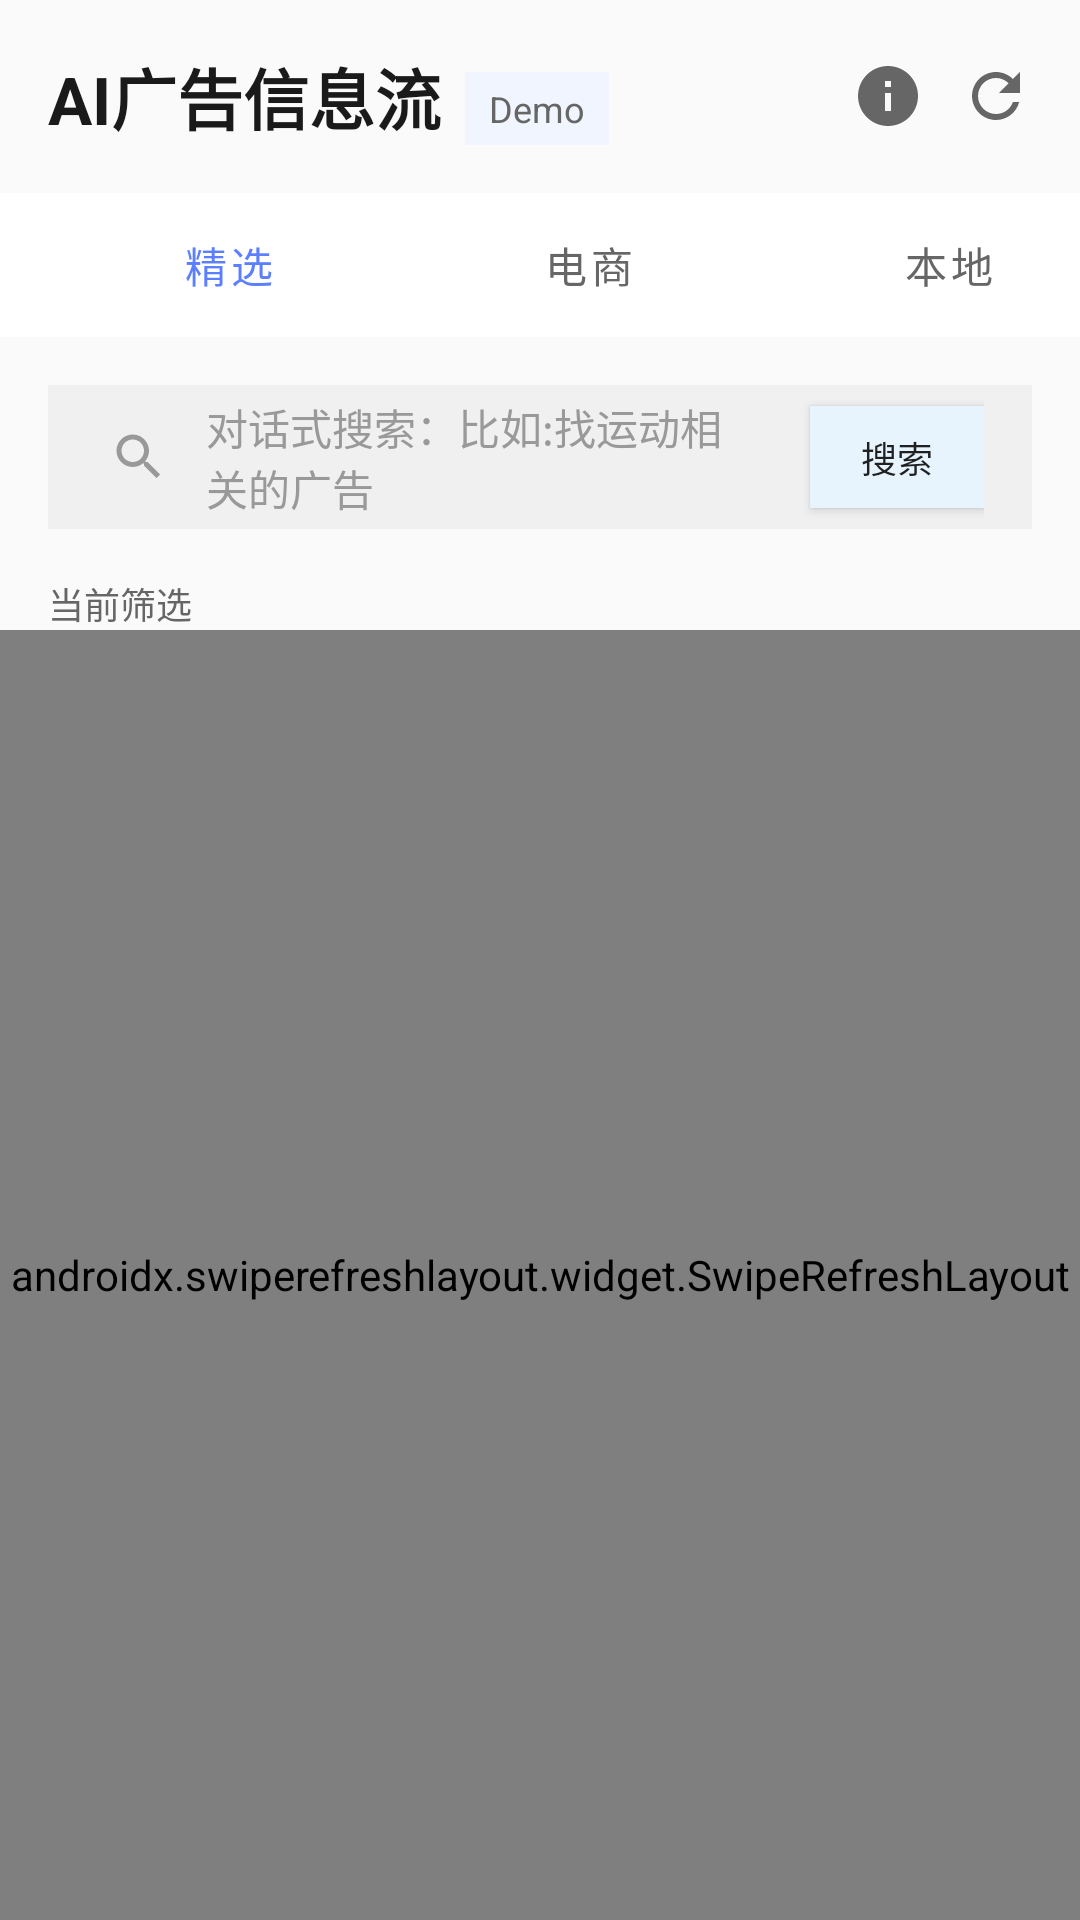

Screen size 1080 × 1920. Icon name, then its center in pixels as [x,y]:
info: [888,96]
refresh: [996,96]
search: [138,456]
